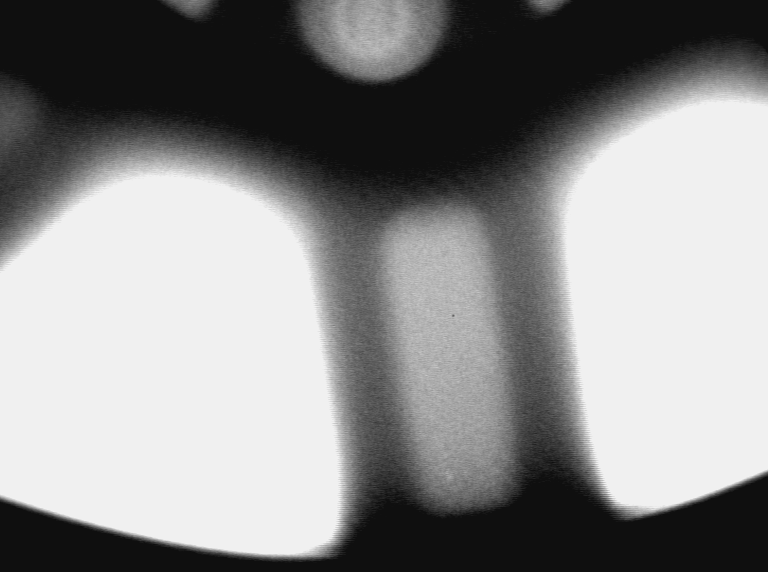defect: (430, 428, 462, 491)
